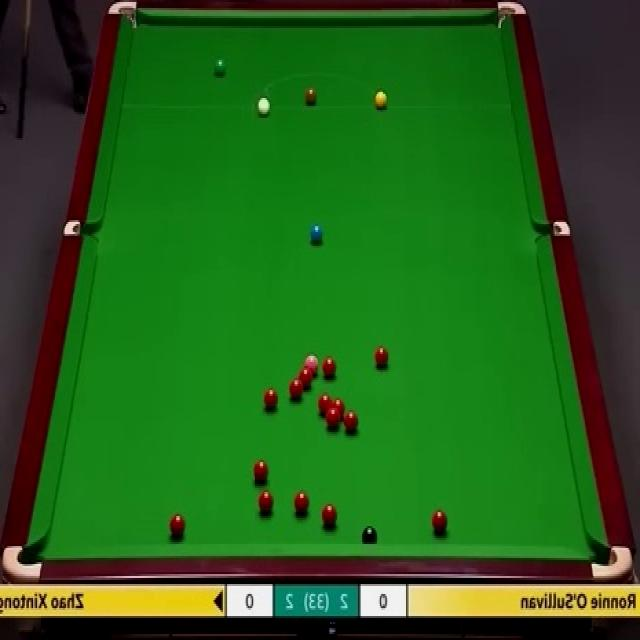black-ball: (361, 526, 378, 545)
blue-ball: (310, 220, 324, 245)
brown-ball: (305, 88, 317, 106)
green-ball: (213, 58, 228, 78)
pink-ball: (304, 354, 317, 376)
red-ball: (431, 509, 448, 534), (258, 489, 274, 515), (294, 491, 309, 516), (264, 387, 279, 412), (253, 459, 268, 483), (170, 513, 185, 537), (322, 503, 336, 528), (344, 410, 358, 434), (318, 394, 332, 418), (289, 378, 303, 401), (374, 346, 388, 368), (298, 366, 312, 388), (322, 359, 336, 378), (326, 410, 339, 430), (332, 398, 345, 418)
white-ball: (257, 94, 272, 118)
yellow-ball: (375, 89, 388, 109)
